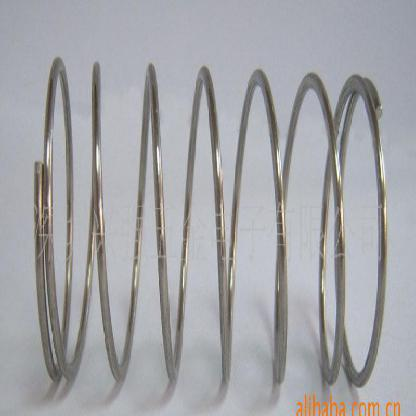FOD: (27, 45, 392, 397)
